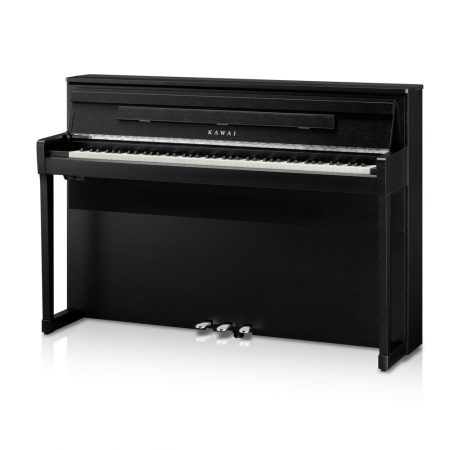piano: (27, 68, 426, 373)
